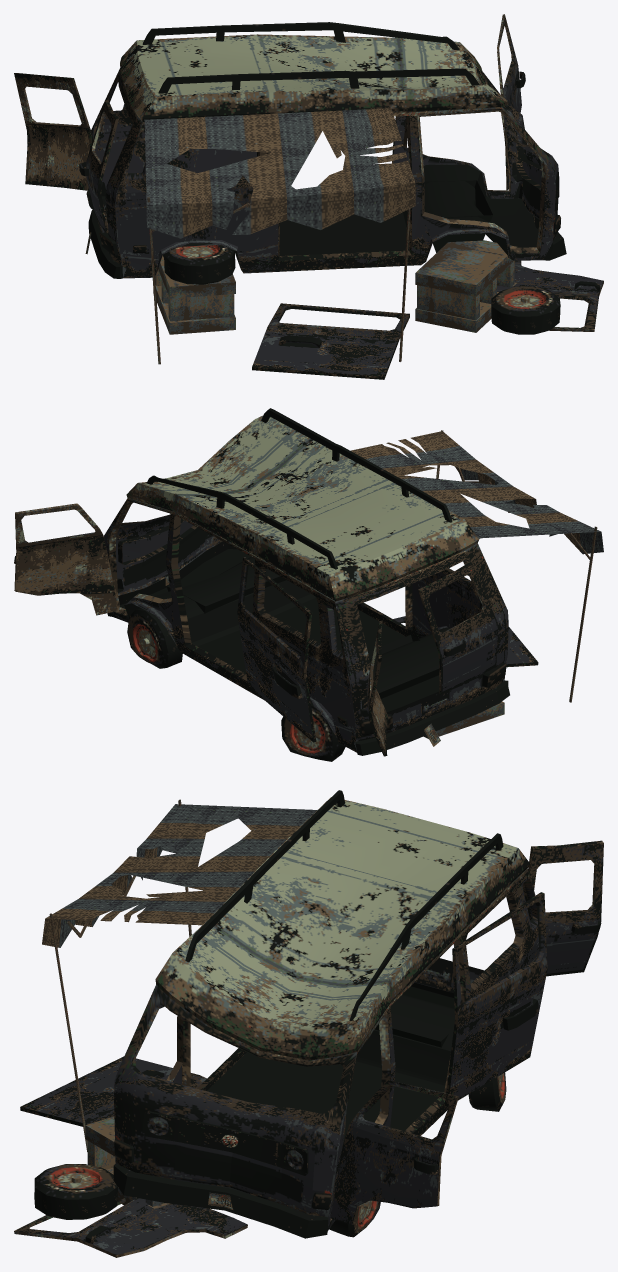
The model's file is CacoVan.fbx.
3 views of the same model, one above another, from view 1: azimuth 30°, elevation 25°; view 2: azimuth 150°, elevation 25°; view 3: azimuth 270°, elevation 25° (orthographic). The views are drawn at different scales.
Parts seen in each view (by area): view 1: polySurface4178; view 2: polySurface4178; view 3: polySurface4178.
Boxes of the visible parts, x1,y1,x2,y2 form: polySurface4178: (14,14,603,379); polySurface4178: (14,408,603,761); polySurface4178: (14,790,603,1257).
Size of the model in its own units: 323 by 151 by 282.
1 material, 1 textured.
